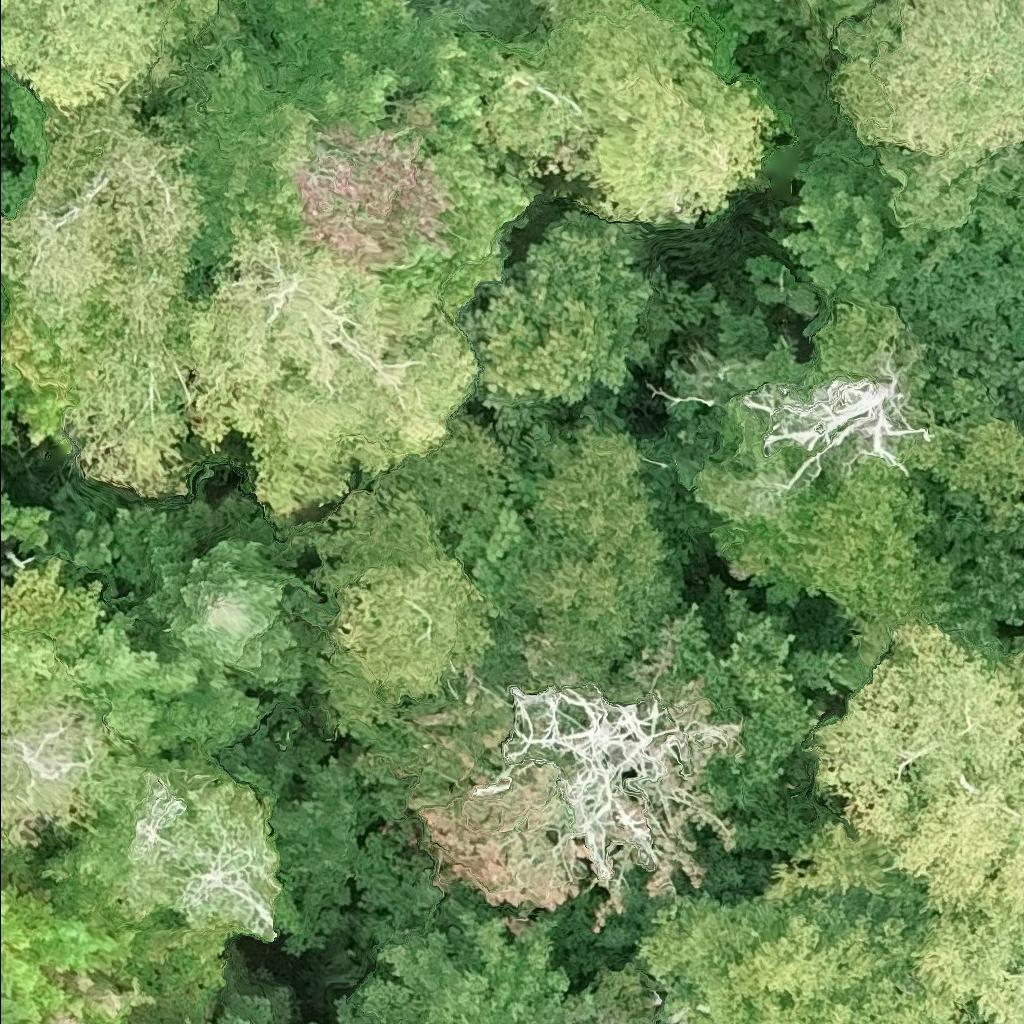crown: (162, 40, 529, 313), (187, 220, 475, 515), (752, 619, 1023, 928), (0, 96, 206, 494), (0, 567, 240, 807), (538, 0, 779, 226), (480, 681, 734, 883), (56, 759, 282, 983), (503, 427, 685, 690), (642, 889, 970, 1023), (311, 499, 497, 716), (472, 209, 651, 407), (834, 0, 1023, 174), (200, 0, 467, 122), (694, 383, 839, 603), (147, 524, 318, 695), (679, 612, 846, 785), (790, 167, 967, 295), (378, 919, 578, 1023), (886, 188, 1023, 337), (133, 787, 277, 925), (0, 891, 147, 1023), (743, 369, 926, 475), (0, 0, 187, 102), (448, 35, 574, 173), (0, 694, 110, 852), (274, 754, 367, 932), (0, 279, 81, 457), (905, 319, 1023, 438), (913, 909, 1023, 1023), (49, 505, 169, 601), (727, 0, 865, 61), (139, 991, 270, 1023), (933, 11, 984, 62), (0, 985, 43, 1023), (0, 400, 14, 457), (196, 0, 218, 7)
